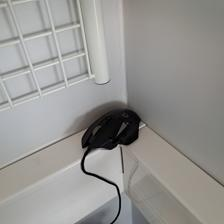mouse: (80, 107, 140, 151)
